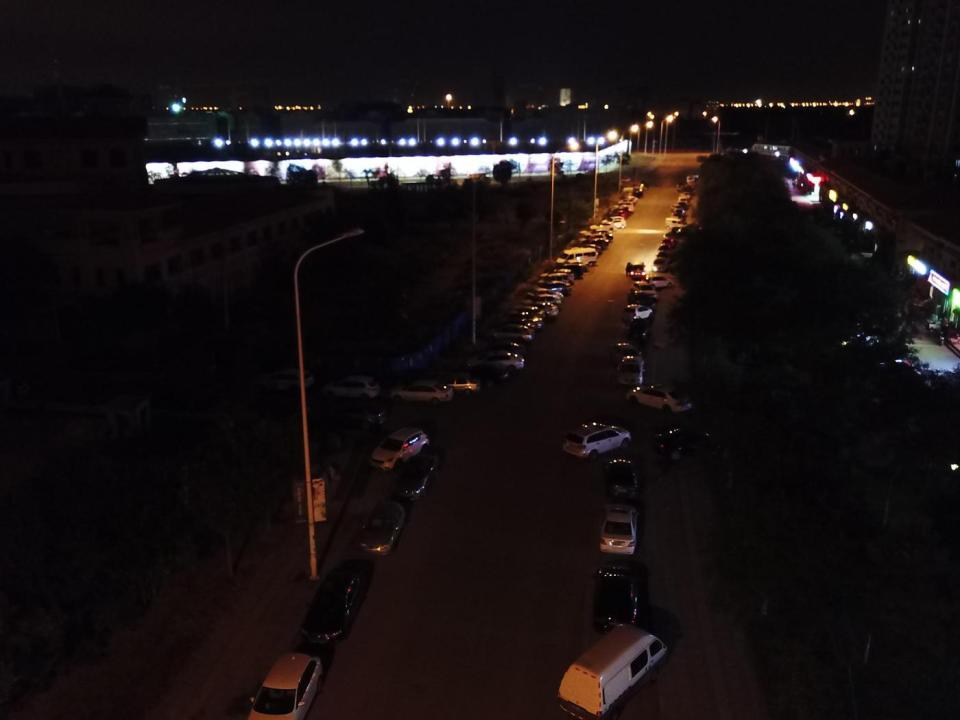car: (302, 557, 375, 646), (249, 648, 324, 720), (588, 555, 649, 635), (649, 426, 748, 466), (371, 424, 438, 472), (354, 498, 407, 556), (561, 419, 631, 459), (592, 500, 642, 554), (391, 453, 441, 501), (626, 382, 695, 415), (322, 401, 388, 430), (320, 374, 383, 402), (388, 380, 457, 405), (258, 366, 314, 393), (603, 455, 638, 497), (463, 350, 524, 372), (430, 371, 482, 396), (461, 366, 511, 392), (487, 324, 535, 343), (616, 355, 644, 386), (481, 340, 527, 358), (608, 341, 643, 362), (520, 294, 562, 311), (506, 310, 543, 329), (524, 287, 564, 304), (620, 302, 653, 322), (522, 301, 559, 318), (626, 316, 650, 341), (504, 318, 538, 335), (512, 304, 546, 321), (542, 267, 575, 284), (552, 262, 584, 278), (627, 290, 659, 306), (644, 274, 675, 290), (630, 280, 657, 298), (625, 260, 648, 279), (540, 281, 572, 294), (582, 229, 614, 241), (564, 260, 591, 273), (577, 243, 602, 256), (589, 222, 618, 233), (581, 239, 609, 250), (602, 215, 625, 228), (651, 257, 670, 272), (584, 233, 606, 244), (609, 208, 631, 219), (613, 202, 634, 213), (603, 219, 626, 229), (660, 237, 677, 250), (655, 248, 670, 260), (657, 241, 672, 253), (618, 198, 636, 207), (624, 195, 638, 206), (671, 225, 685, 236), (678, 186, 695, 195), (663, 230, 676, 241), (671, 207, 685, 217), (678, 195, 690, 206), (674, 202, 689, 210), (679, 190, 692, 199), (675, 182, 686, 190)
truck: (633, 186, 647, 198)
van: (554, 624, 669, 720), (555, 247, 597, 269), (539, 273, 570, 291), (664, 214, 688, 232)
